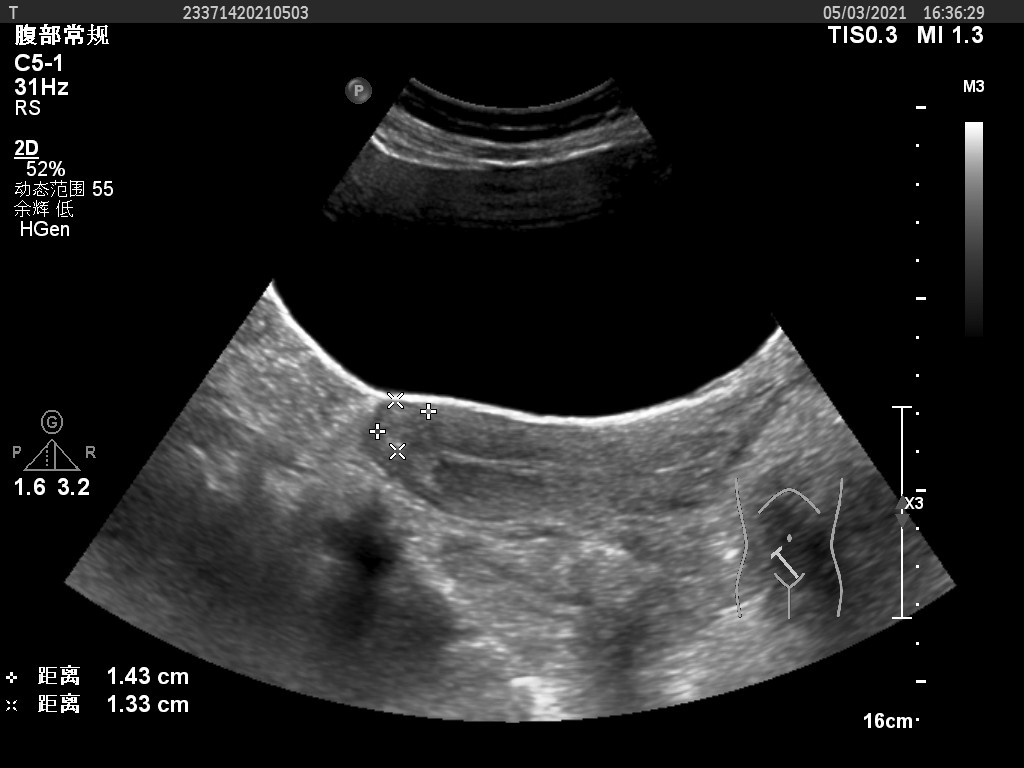肌瘤: (377, 400, 429, 448)
